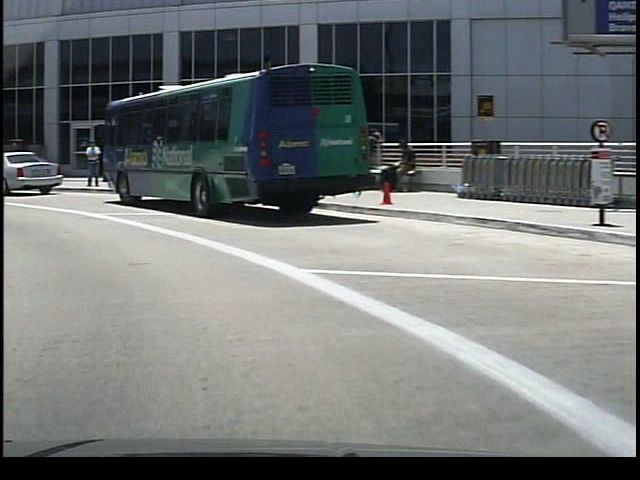person: (380, 136, 415, 198), (79, 139, 100, 190)
